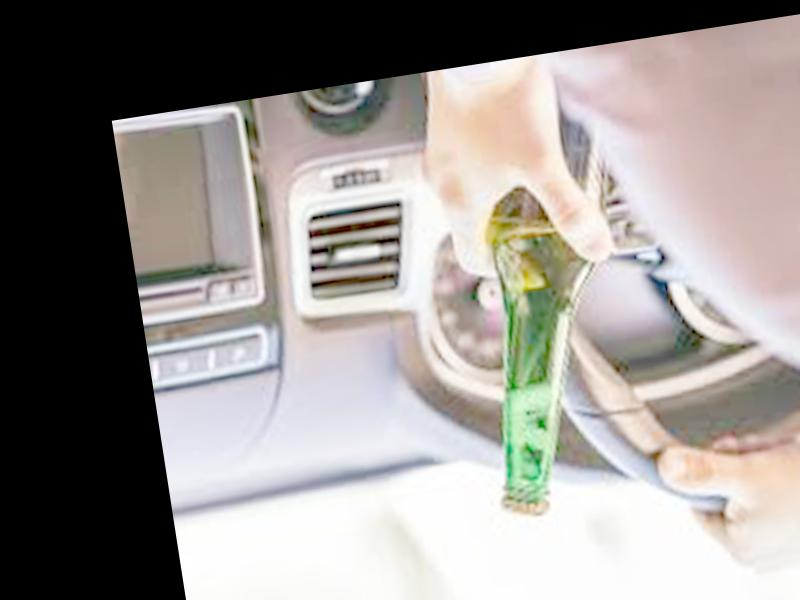Beer: (439, 92, 656, 524)
